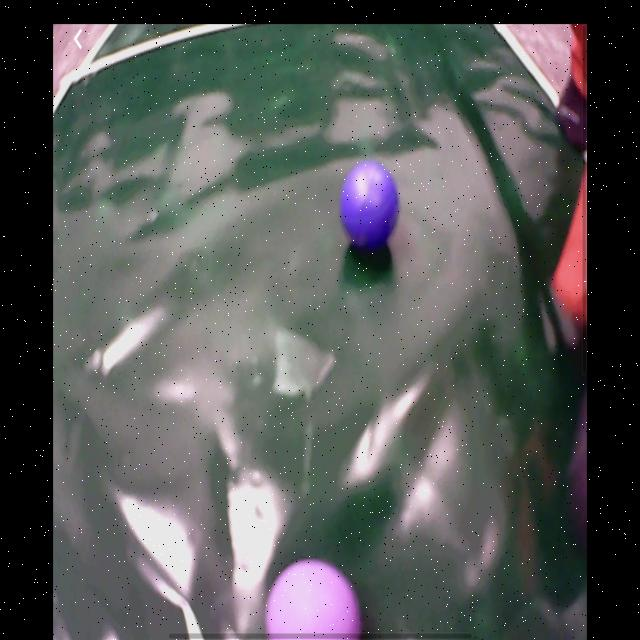ball: (265, 558, 363, 640), (340, 161, 400, 252)
